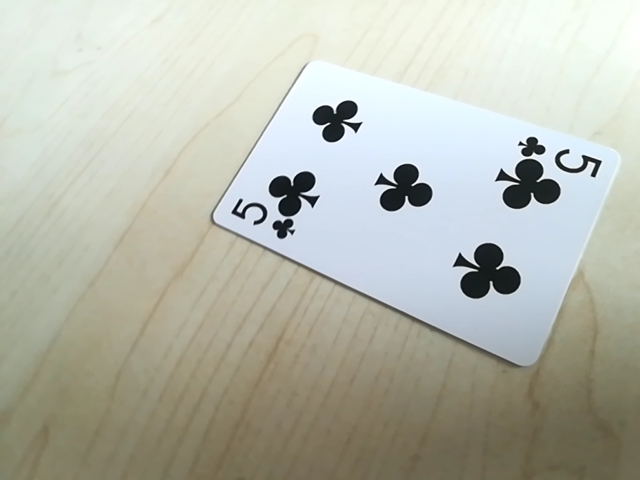mh 5: (516, 138, 606, 177), (227, 197, 300, 243)
